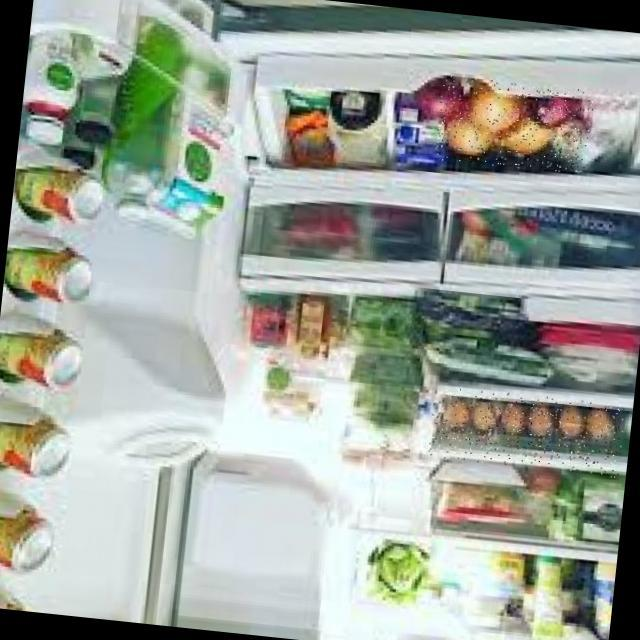Cebolla: (434, 73, 595, 174)
Huevos: (427, 384, 625, 477)
milk: (142, 56, 244, 242)
